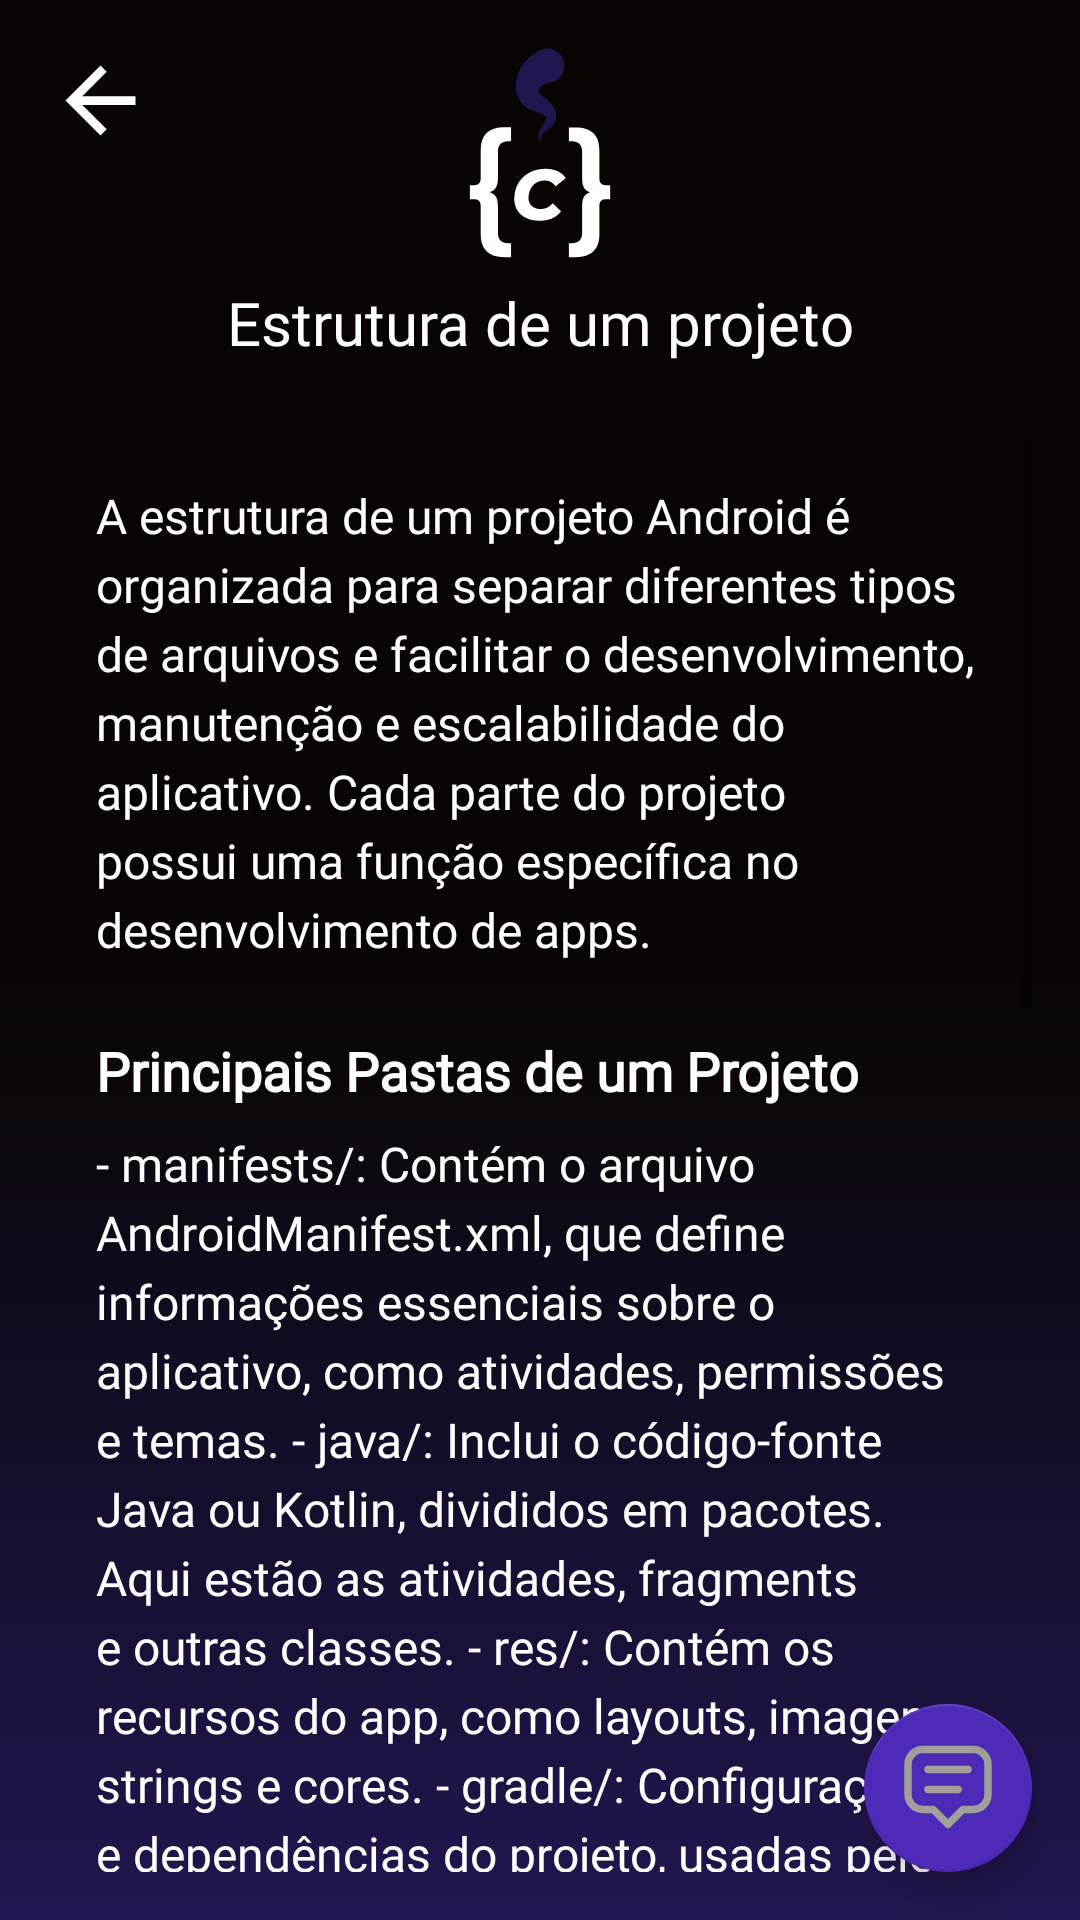

Screen size 1080*1920. Icon name, then its center in pixels as point (x, y):
Botão para abrir o chat de IA: point (948, 1788)
Voltar: point (100, 100)
